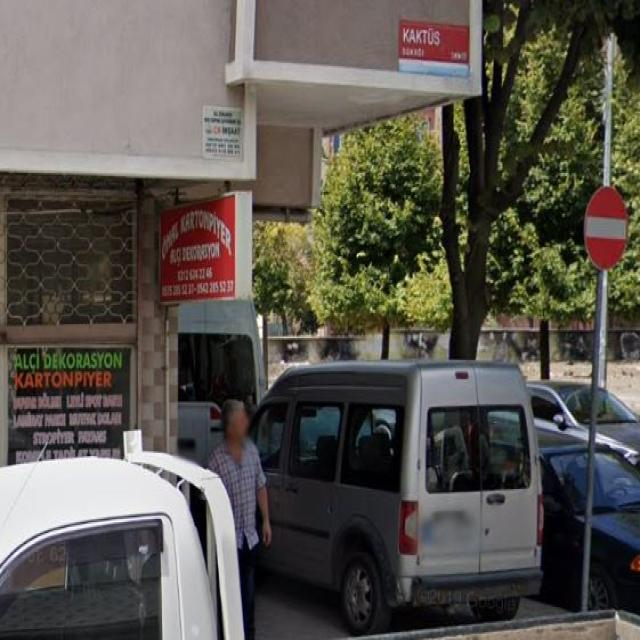girisyok: (584, 186, 629, 270)
